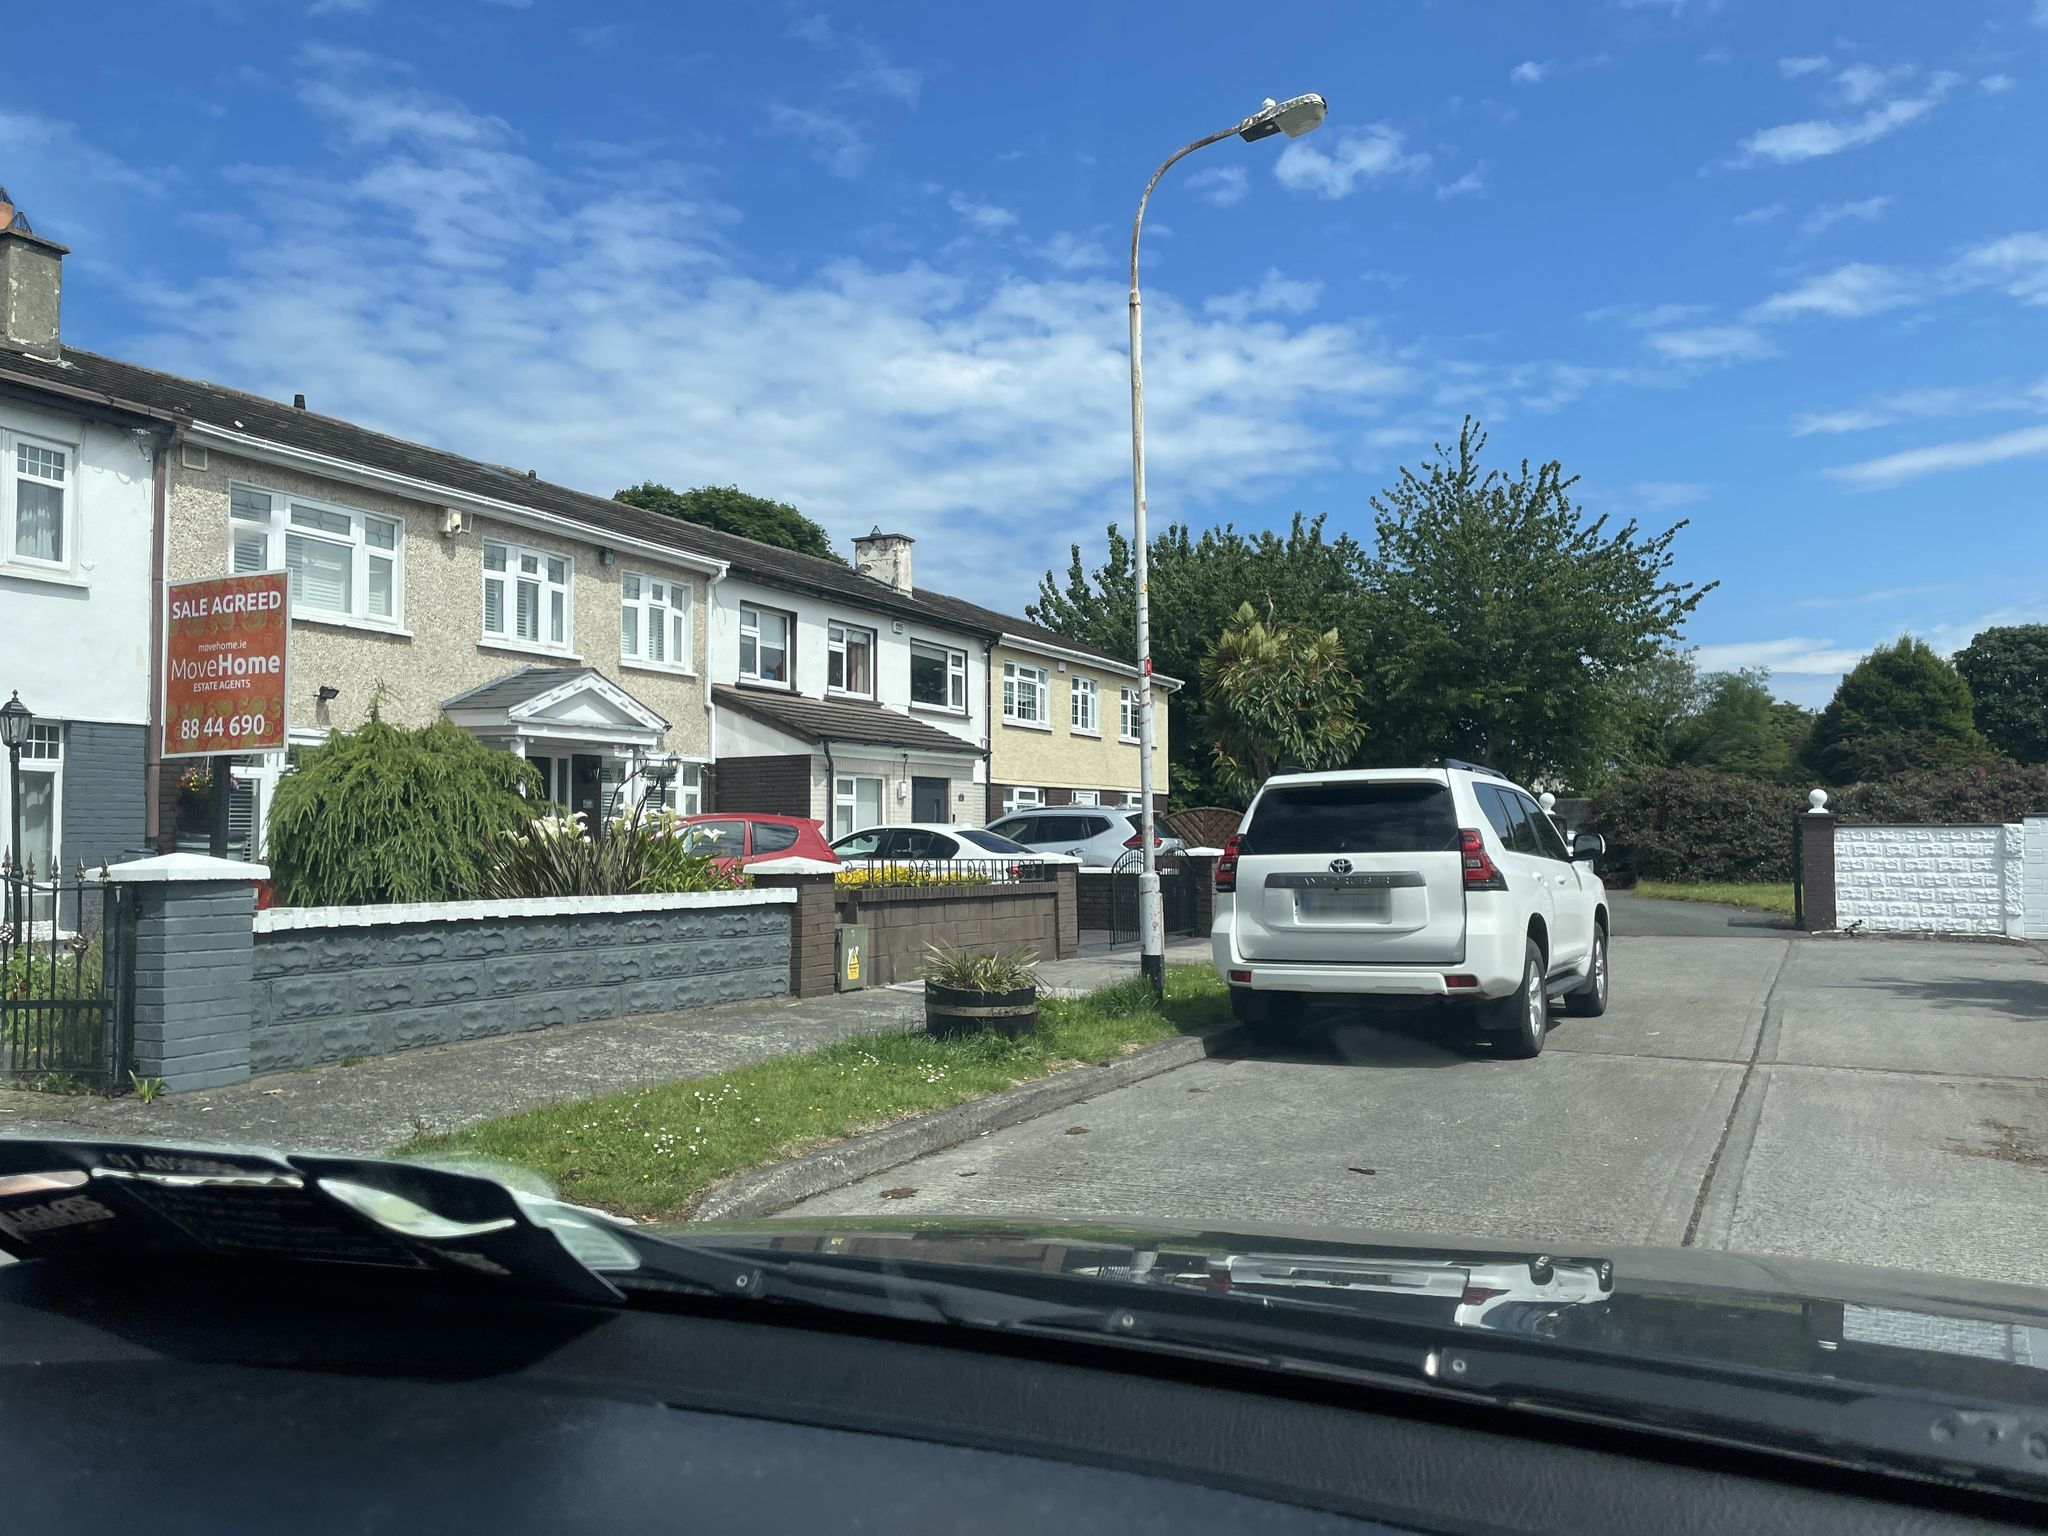property sign: (135, 558, 302, 771)
